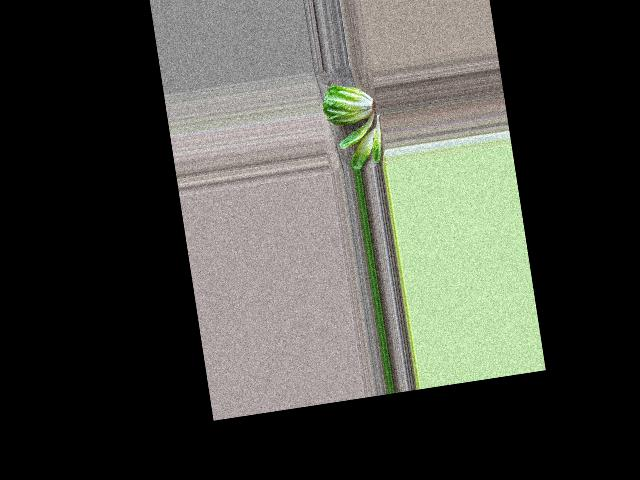lettuce: (319, 78, 375, 129)
